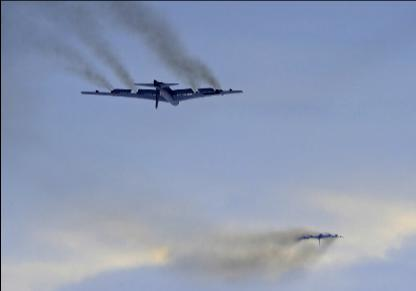B2: (80, 80, 242, 110), (295, 233, 345, 246)
